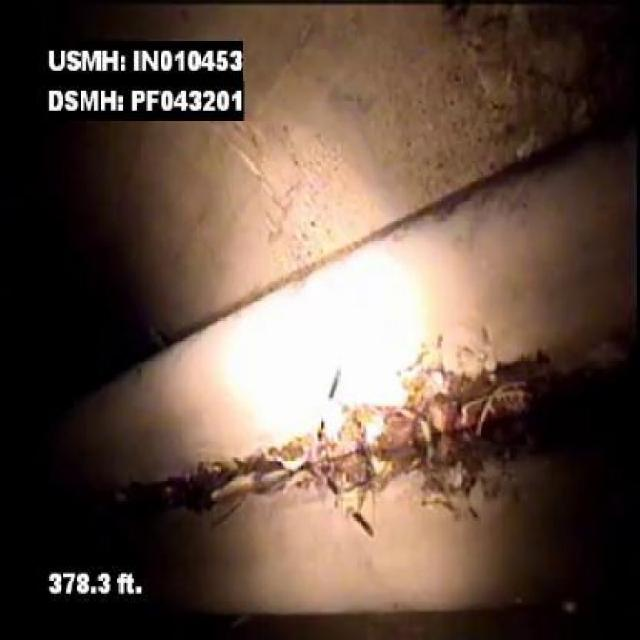Utility intrusion: (206, 143, 639, 494)
